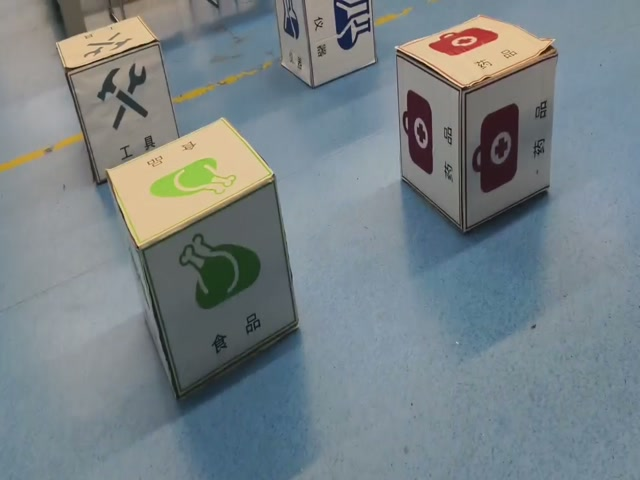Cube_food: (103, 117, 273, 249)
Cube_medicine: (392, 11, 555, 91)
Cube_tool: (57, 16, 159, 72)
